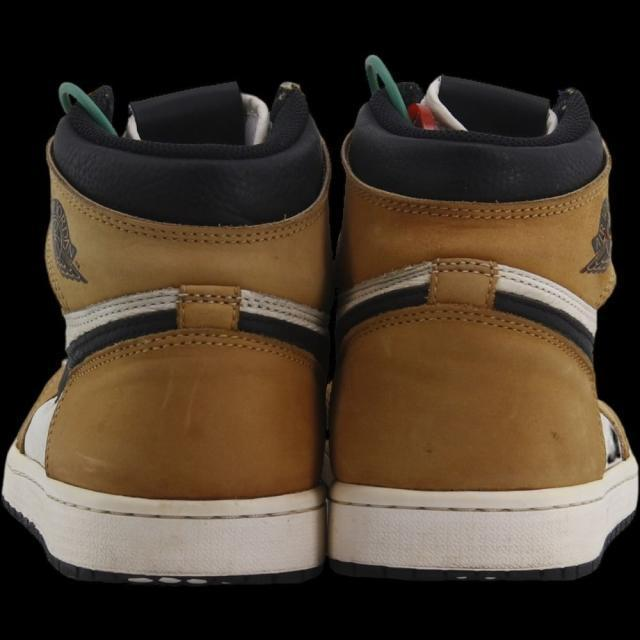nike original jordan 1: (322, 79, 640, 583)
